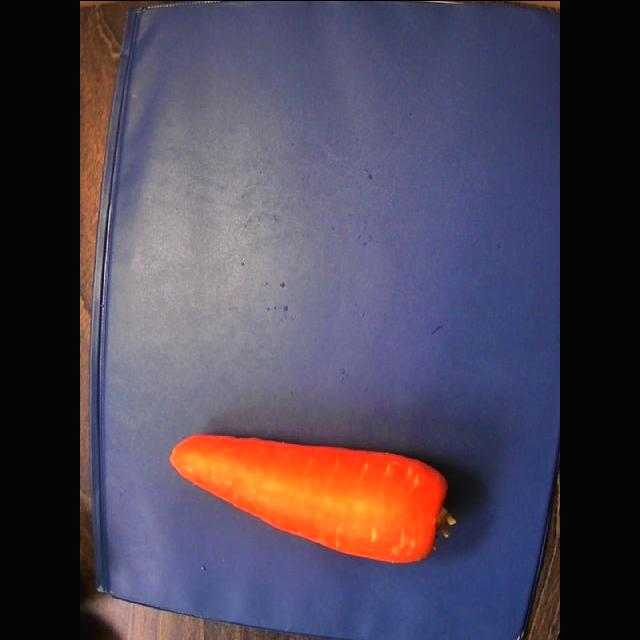zanahoria: (170, 435, 455, 562)
